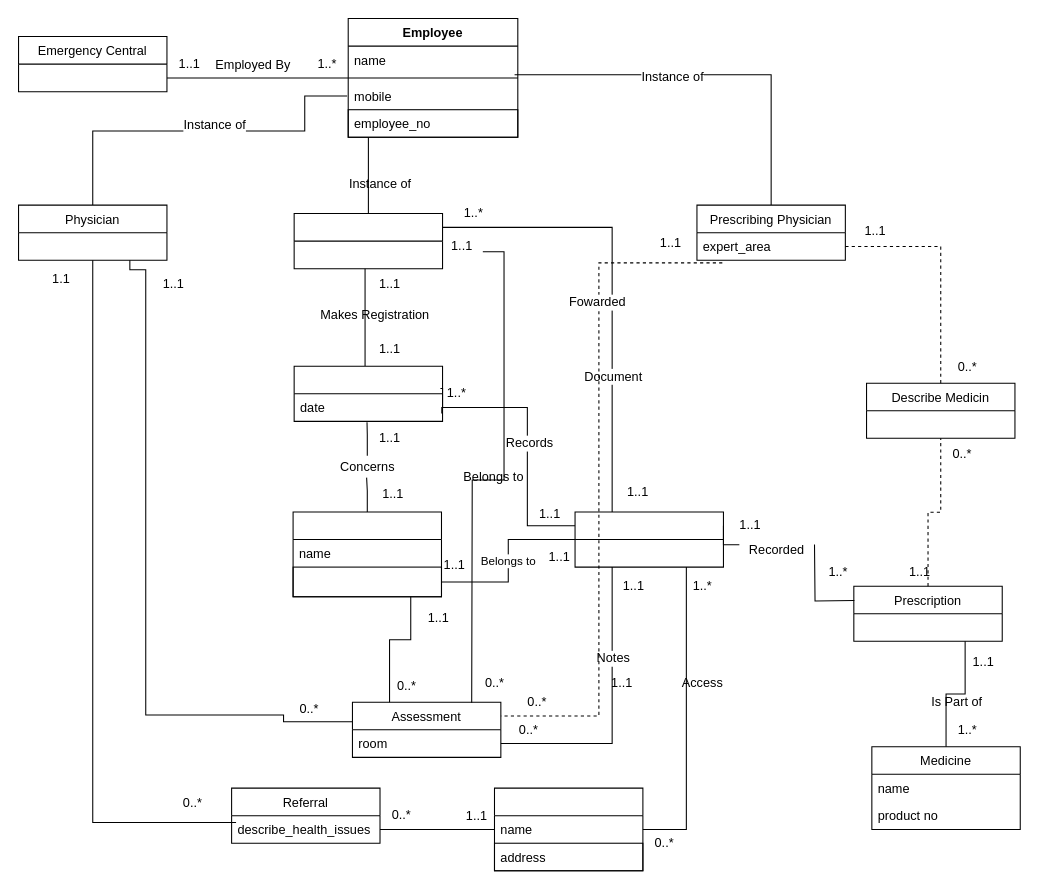
Some shapes in this 1039 by 893 pixel diagram are drawn without their labels. Here are the shapes that lost their labels. From the top down, the box of each, then its label:
(293, 213, 443, 269): Nurse
(293, 365, 443, 421): Registration
(292, 511, 441, 597): Patient
(574, 511, 723, 567): Medical Record
(292, 566, 441, 597): national_id
(493, 787, 643, 871): Health center
